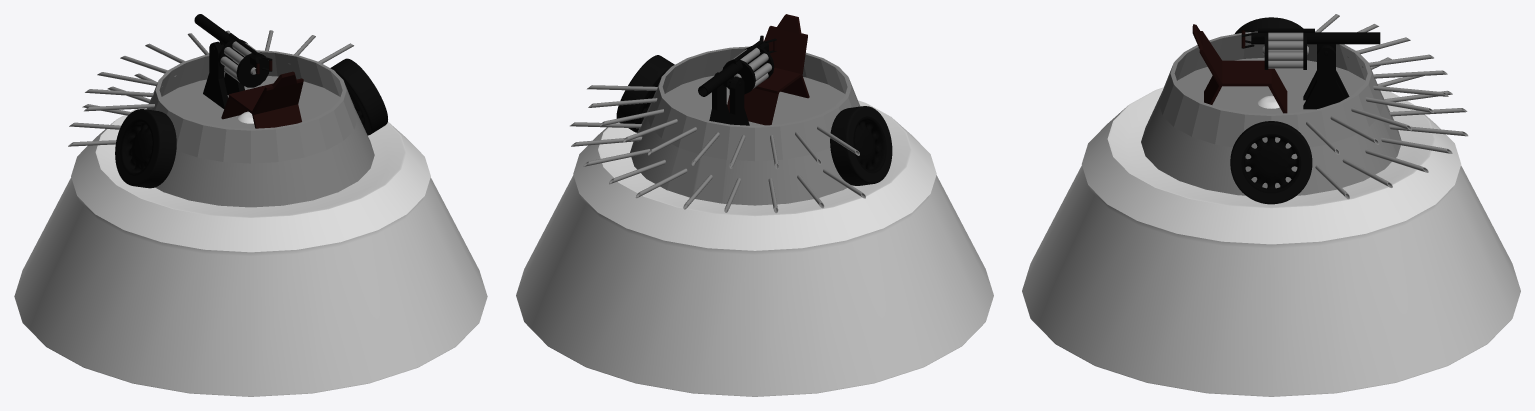
File: Tower_3.FBX
3 views of the same model, side by side, from view 1: azimuth 30°, elevation 25°; view 2: azimuth 150°, elevation 25°; view 3: azimuth 270°, elevation 25° (orthographic). The views are drawn at different scales.
Parts seen in each view (by area): view 1: Cylinder024, Box007, Body017, Body018, Cylinder033, Object001; view 2: Cylinder024, Box007, Body017, Body018, Object001, Cylinder033; view 3: Cylinder024, Box007, Body018, Object001, Cylinder033, Body017.
Boxes of the visible parts, x1,y1,x2,y2 form: Cylinder024: (14,103,487,396); Box007: (68,30,374,207); Body017: (115,109,176,188); Body018: (330,58,387,135); Cylinder033: (220,41,269,87); Object001: (194,14,272,74); Cylinder024: (516,100,993,396); Box007: (570,14,865,213); Body017: (830,106,892,185); Body018: (616,55,674,132); Object001: (698,35,776,96); Cylinder033: (732,46,774,88); Cylinder024: (1022,87,1520,396); Box007: (1141,14,1468,199); Body018: (1230,121,1312,204); Object001: (1241,28,1380,69); Cylinder033: (1264,32,1303,69); Body017: (1235,17,1303,33).
Size of the model in its own units: 357 by 357 by 209.
